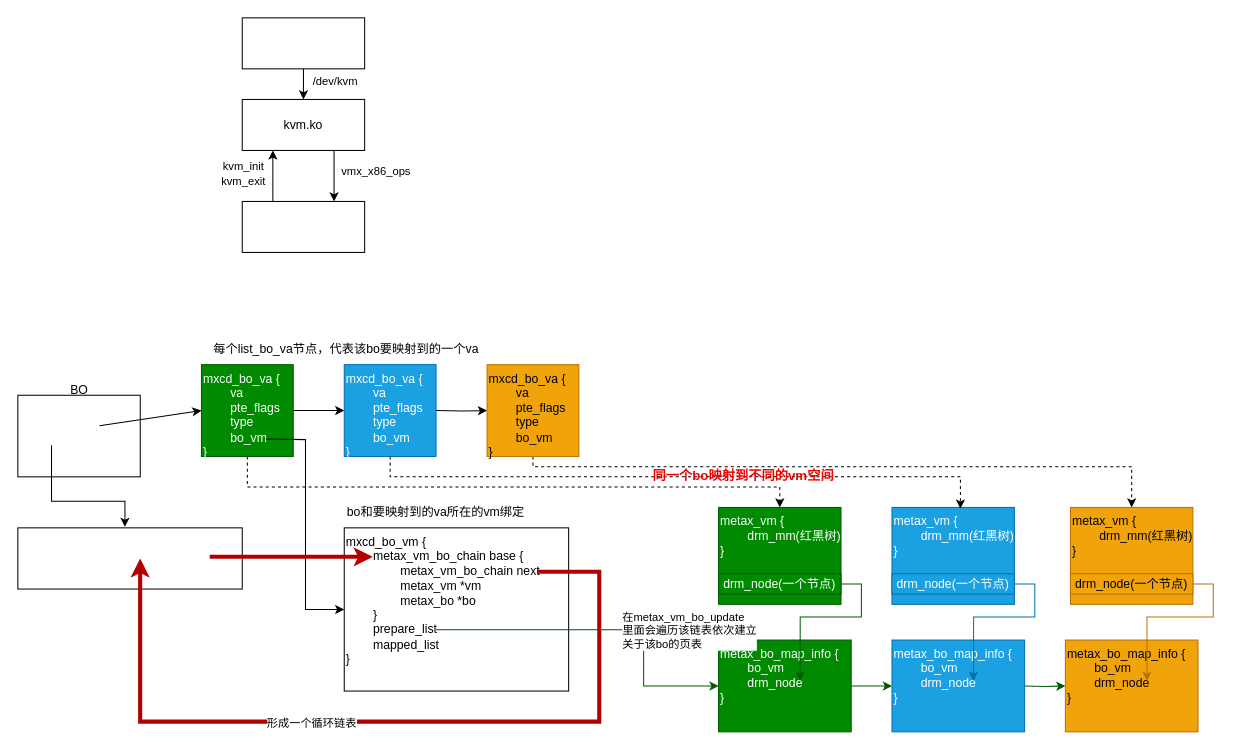
This 1239x750 diagram has some shape labels left out. Here are the shapes that lost their labels. From the top down, the centre of each, then its label:
At point (303, 43): "用户空间".
At point (303, 226): "kvm-intel.ko".
At point (78, 435): "struct mxcd_mem { list_bo_va bo }".
At point (129, 558): "metax_bo metax_vm_bo_chain vm_bo".
